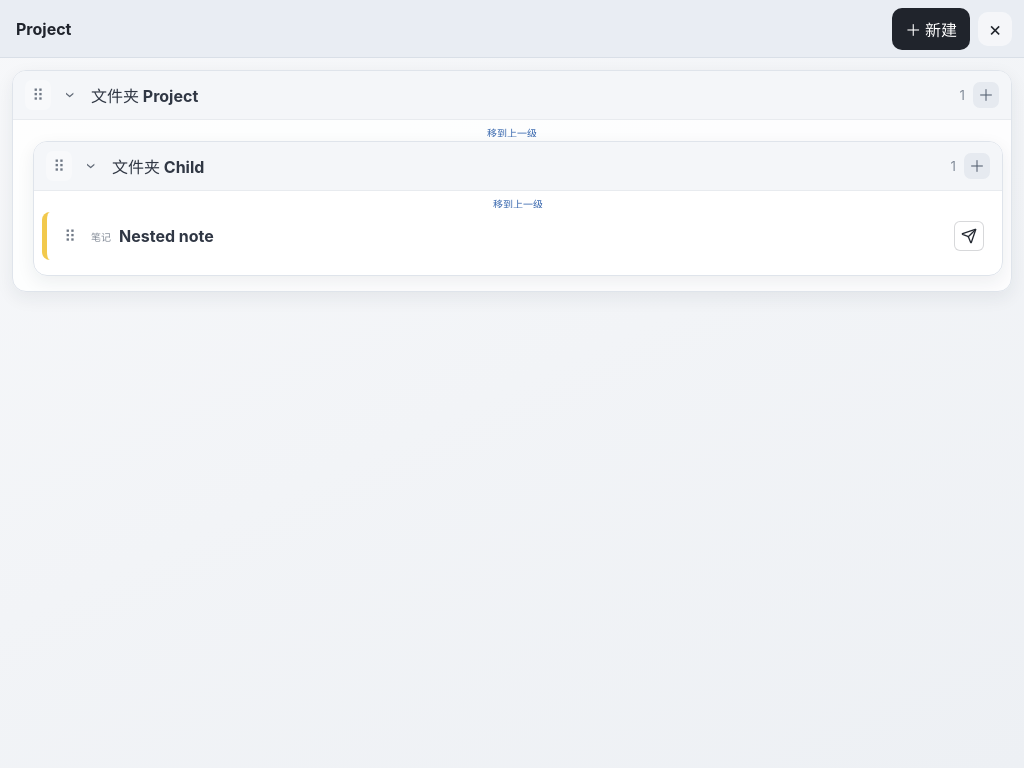
Test case: DetachedFolder › sends a nested note from beside its title and reports success
This screenshot has width=1024, height=768.
Click the button named "发送到思源": {"x": 969, "y": 236} [954,221,984,251]
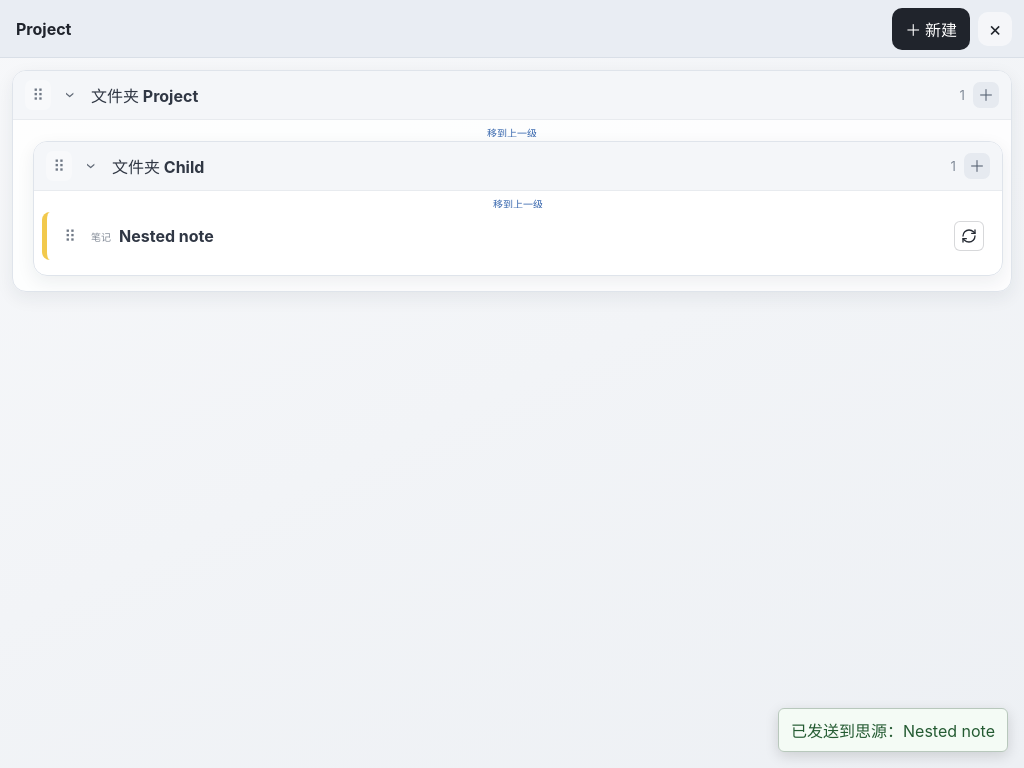
Check: the message named "思源发送结果" reads "已发送到思源：Nested note", box [791,721,995,741]
